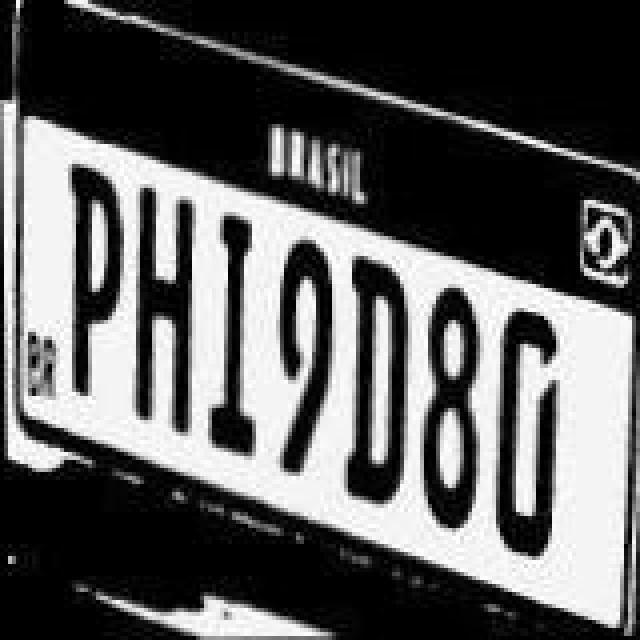8: (414, 268, 490, 536)
9: (274, 234, 342, 482)
D: (492, 302, 568, 570), (338, 256, 414, 508)
H: (124, 188, 204, 436)
I: (198, 204, 274, 464)
P: (60, 166, 132, 410)
